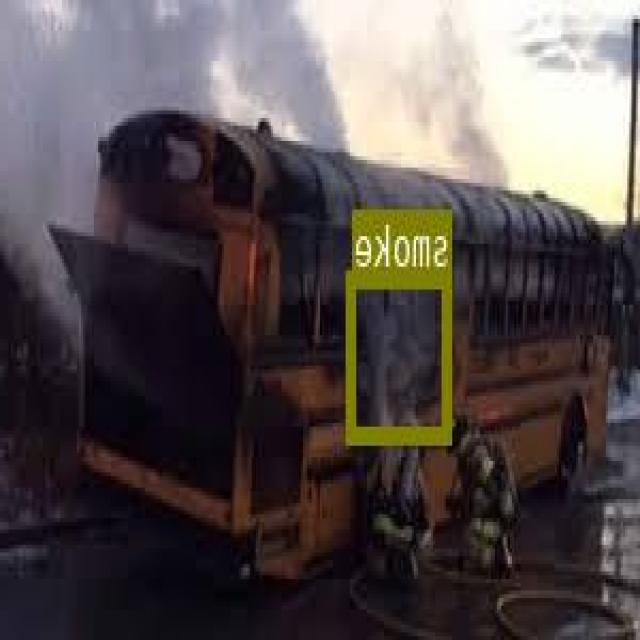smoke: (349, 268, 453, 440)
